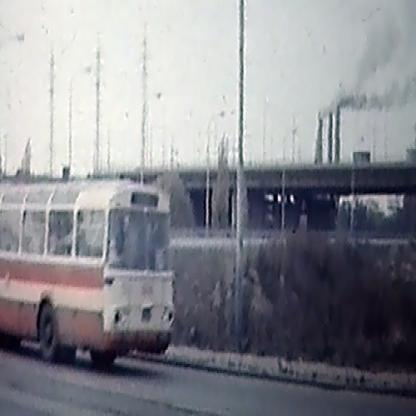bus: (0, 178, 174, 367)
